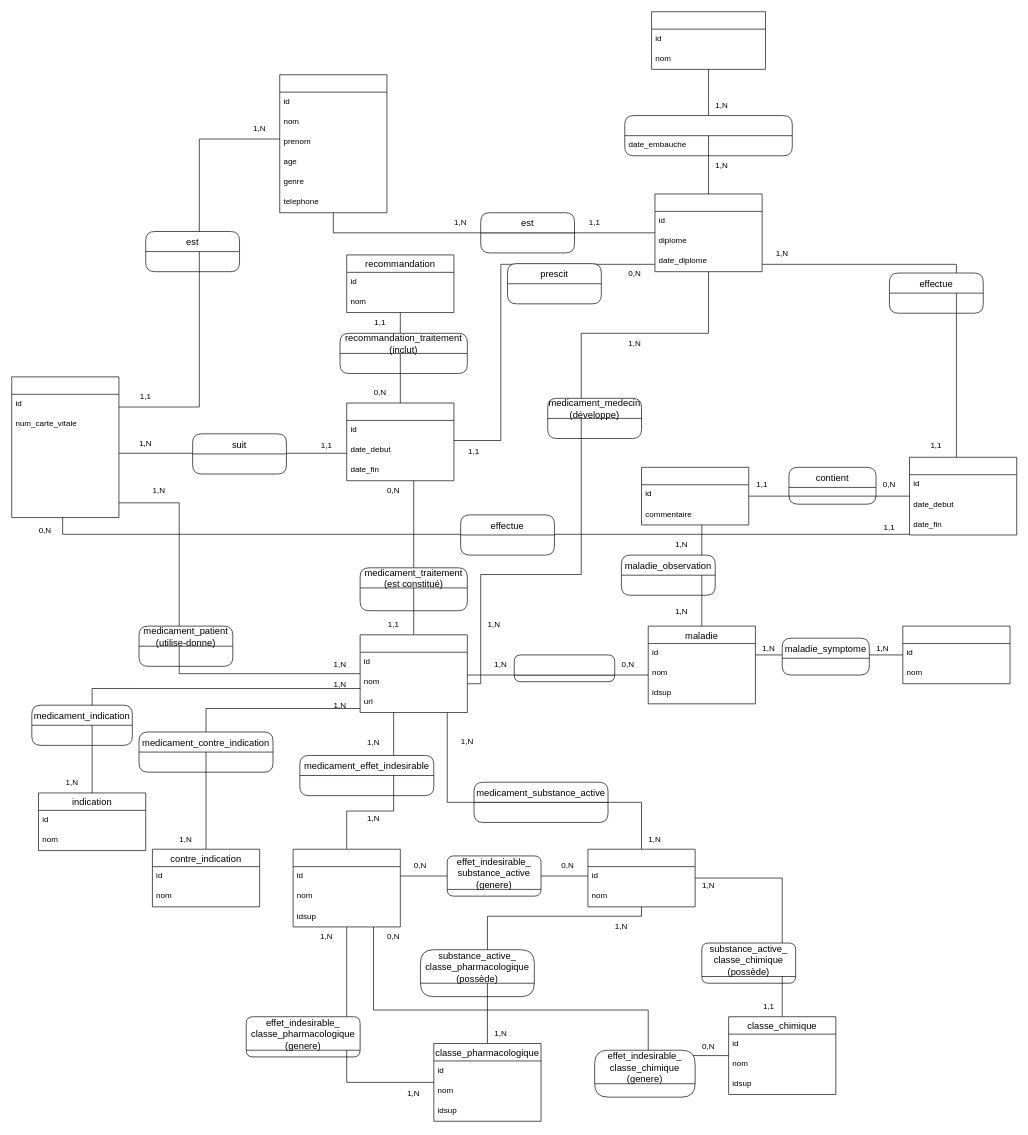
Image size: 1028x1135. Some labels were removed from this diagram. The shapes that lost their labels are listed below. From the top down, each one's box as (x1, y1, x2, y2) in pixels, then its label:
(651, 11, 765, 69): laboratoir_pharmaceutique
(279, 74, 387, 213): utiilisateur
(624, 115, 792, 156): laboratoire_pharmaceutique_medecin (travaille)
(654, 193, 762, 272): medecin
(11, 376, 119, 518): patient (ou ordonnance)
(346, 402, 454, 481): traitement
(641, 467, 749, 525): observation
(909, 457, 1017, 535): consultation
(359, 634, 467, 713): medicament
(514, 654, 615, 682): maladie_medicament (soigner)
(902, 625, 1010, 684): symptome
(292, 849, 400, 927): effet_indesirable
(587, 849, 695, 907): substance_active
